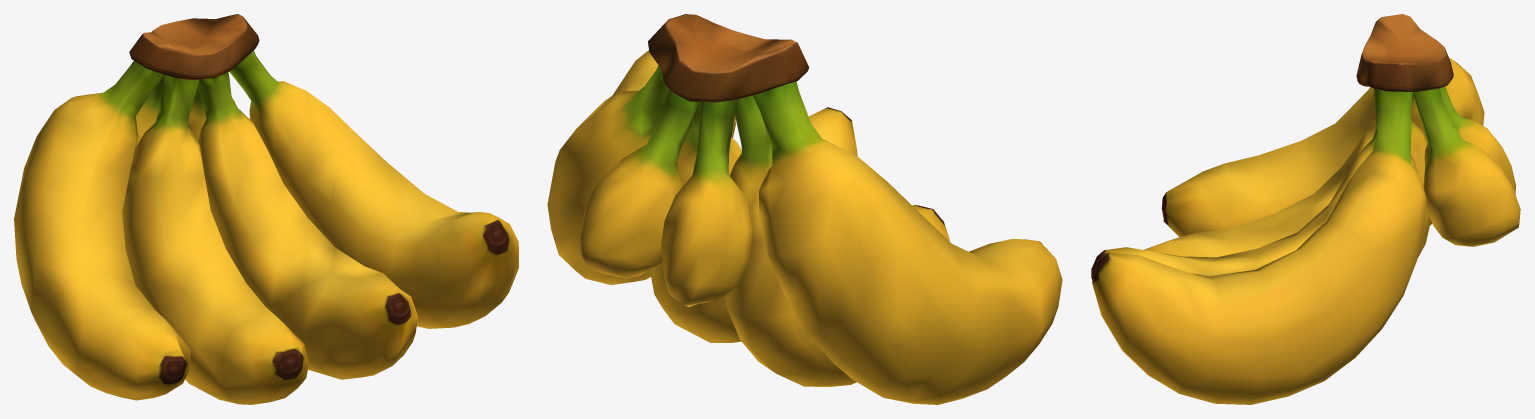
Rendered from Meshy_AI_Golden_Banana_Bunch_0905221513_texture.fbx.
The picture shows the model from 3 angles, left to right: view 1: azimuth 30°, elevation 25°; view 2: azimuth 150°, elevation 25°; view 3: azimuth 270°, elevation 25°; orthographic projection. The views are drawn at different scales.
Visible parts, largest first — view 1: mesh_node; view 2: mesh_node; view 3: mesh_node.
Part boxes in pixels (left/top/right/bottom): mesh_node: left=14, top=14, right=518, bottom=404; mesh_node: left=547, top=14, right=1062, bottom=404; mesh_node: left=1091, top=14, right=1520, bottom=404.
Size of the model in its own units: 100 by 76.76 by 92.97.
1 material, 1 textured.
